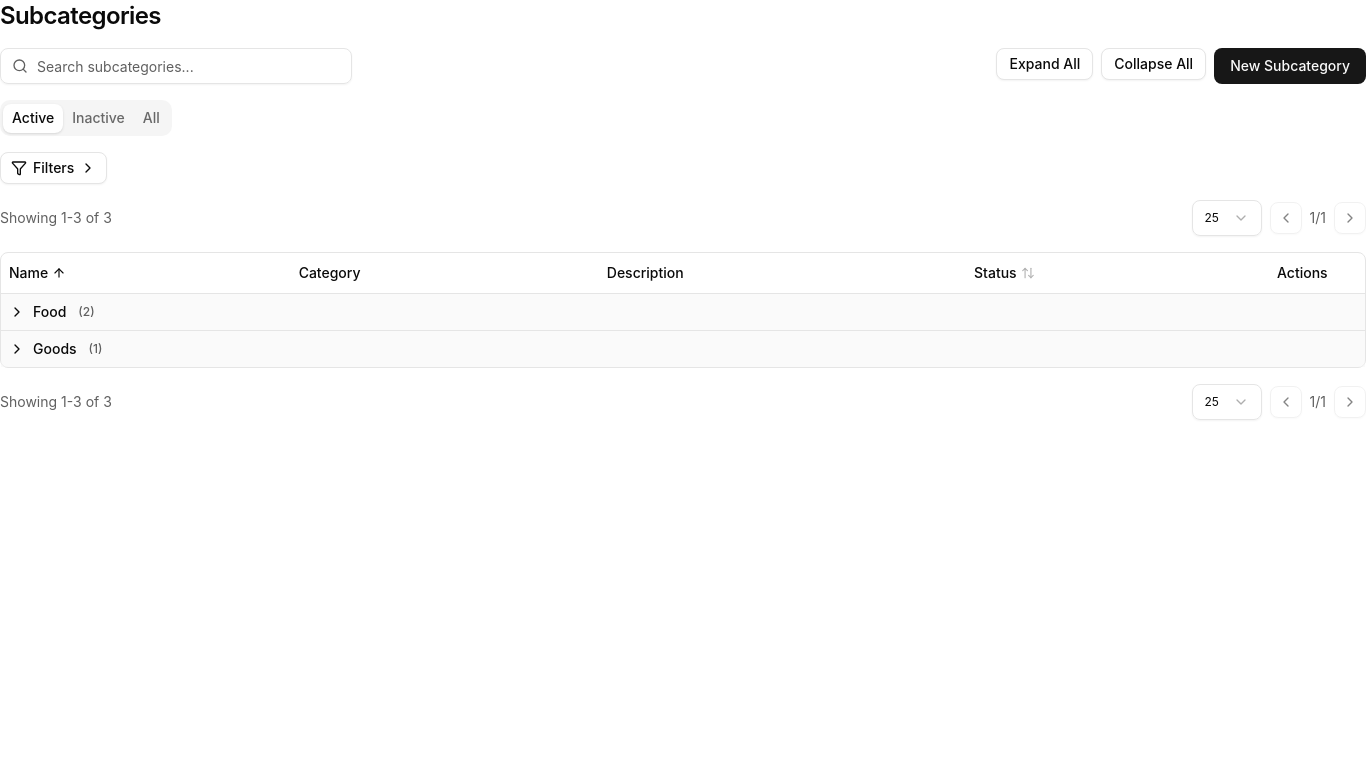
Test: Subcategories › closes edit dialog when dismissed
The image size is (1366, 768).
Click the row with test id "category-header-c1" at (683, 312), box [1, 293, 1365, 330]
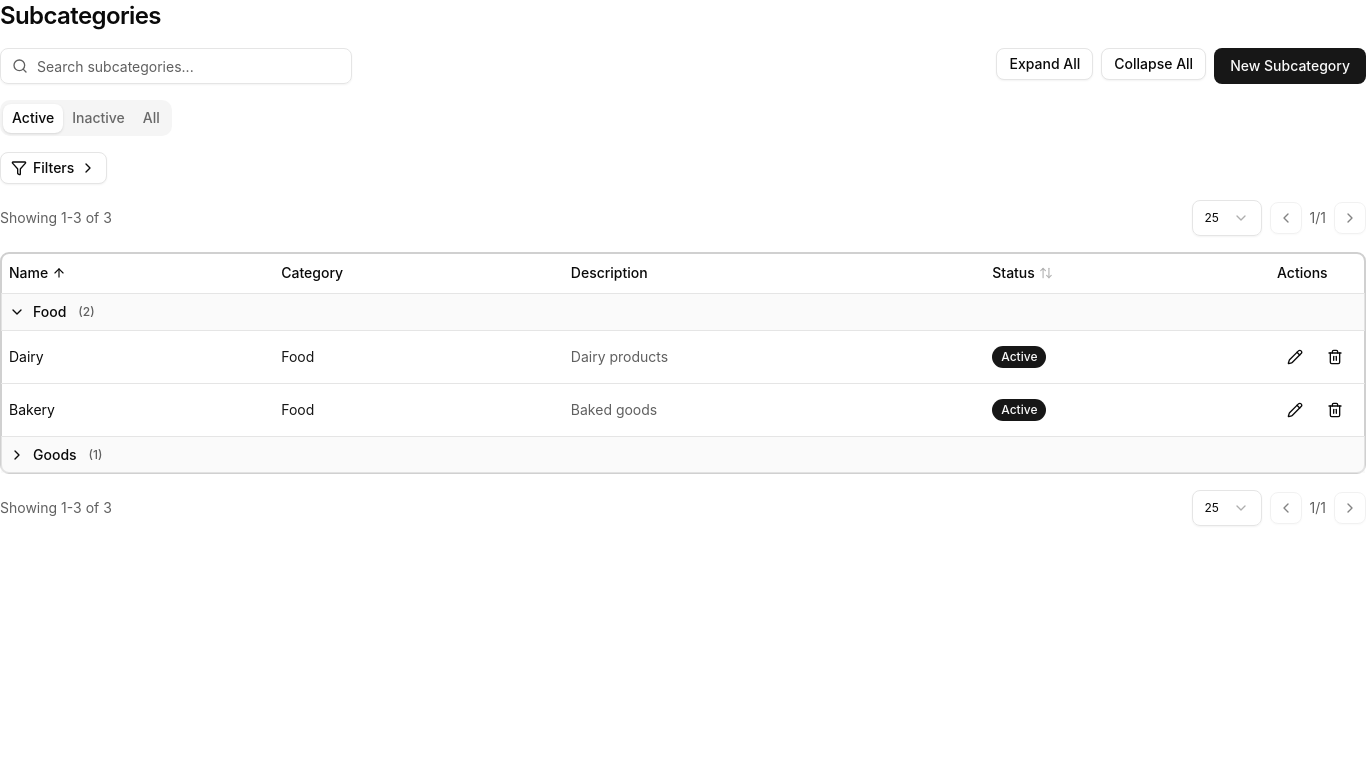
Click the button named "edit" in the row of "Dairy products" at (1295, 356), box [1277, 338, 1313, 374]
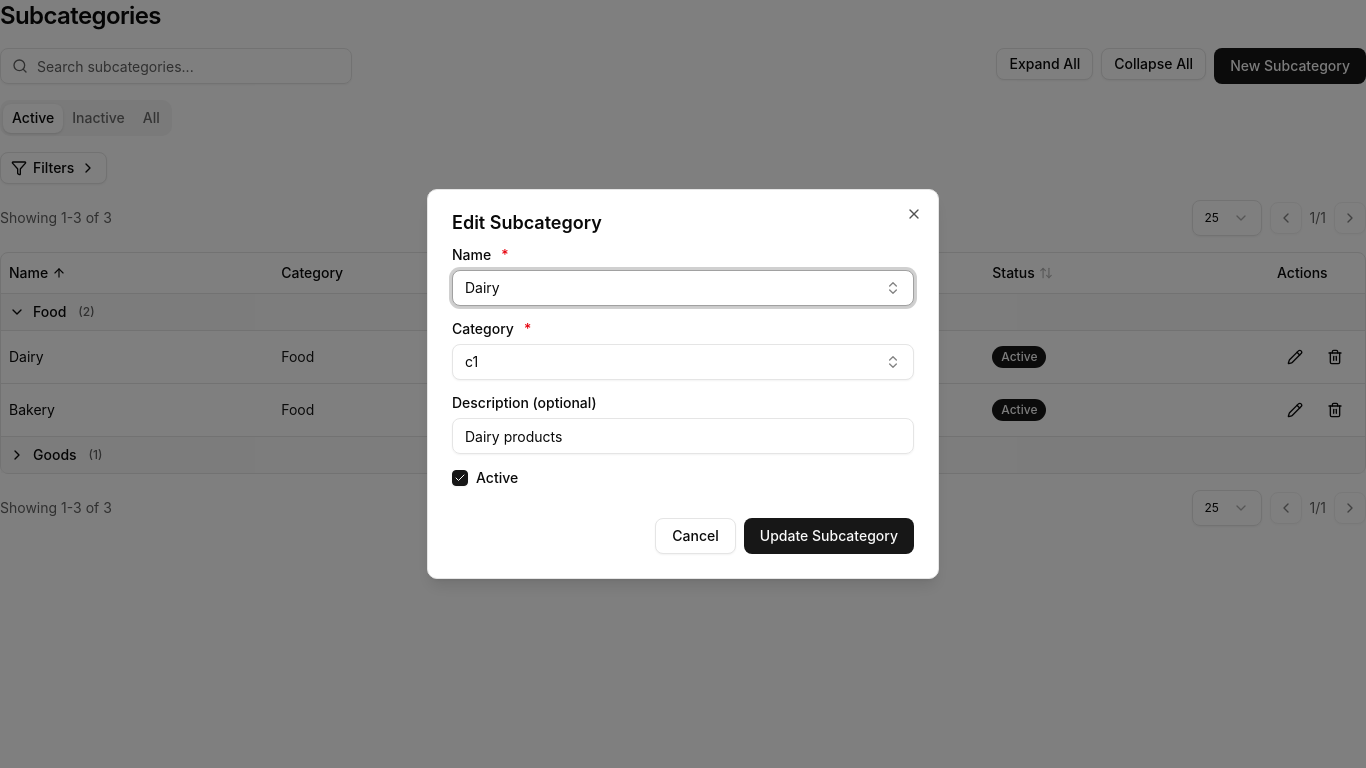
Result: the heading "Edit Subcategory" is shown at [452, 212, 602, 233]
Press Escape
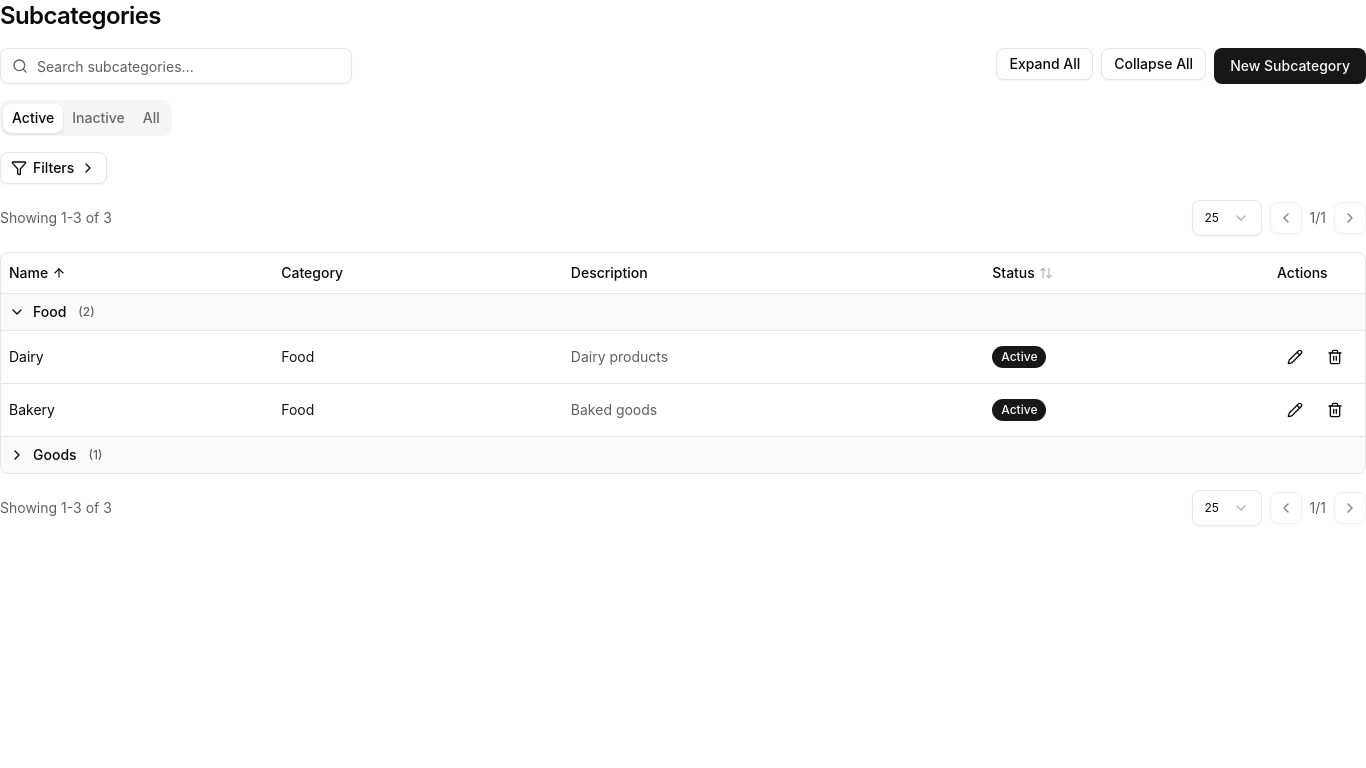
Result: the heading "Edit Subcategory" is gone
